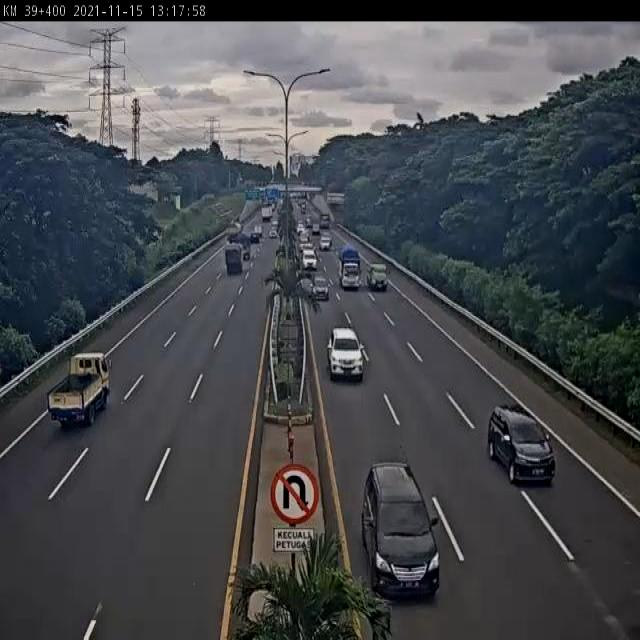Car: (361, 460, 440, 599), (487, 404, 555, 483), (321, 324, 370, 394), (366, 259, 392, 293), (312, 276, 329, 300), (302, 248, 317, 270), (319, 234, 332, 250), (250, 228, 261, 243), (269, 228, 278, 239)
Truck: (32, 343, 115, 441), (339, 237, 369, 291), (224, 243, 244, 275), (222, 221, 245, 242), (262, 204, 272, 222), (320, 214, 330, 228)
